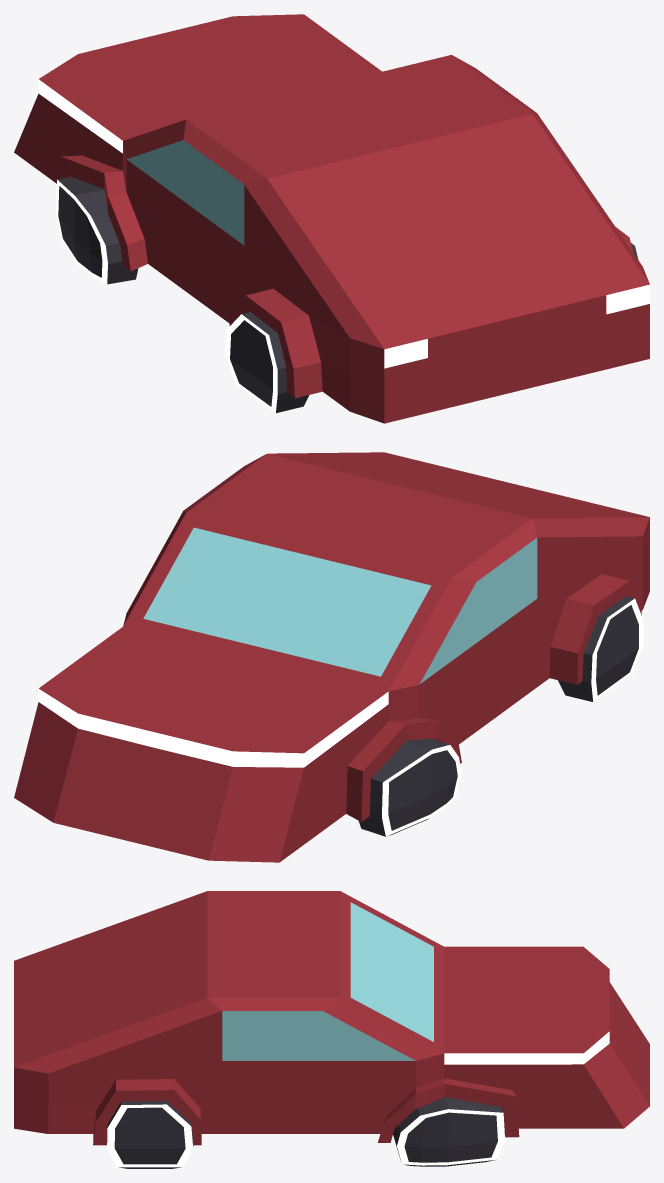
Rendered from Car.fbx.
3 views of the same model, one above another, from view 1: azimuth 30°, elevation 25°; view 2: azimuth 150°, elevation 25°; view 3: azimuth 270°, elevation 25° (orthographic). The views are drawn at different scales.
Parts seen in each view (by area): view 1: Cube.003; view 2: Cube.003; view 3: Cube.003.
Part boxes in pixels (<box>): Cube.003: <box>14,14,649,423</box>; Cube.003: <box>14,452,649,862</box>; Cube.003: <box>14,891,649,1168</box>.
Bounding box in the file's own units: 276 × 135 × 504.
